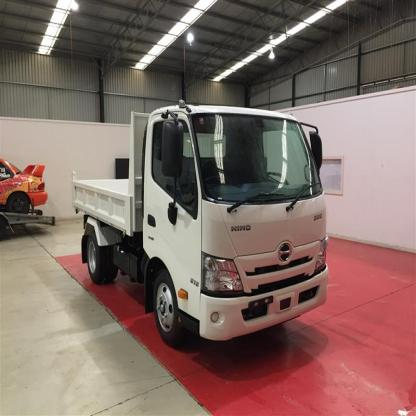dump_truck: (67, 87, 330, 346)
